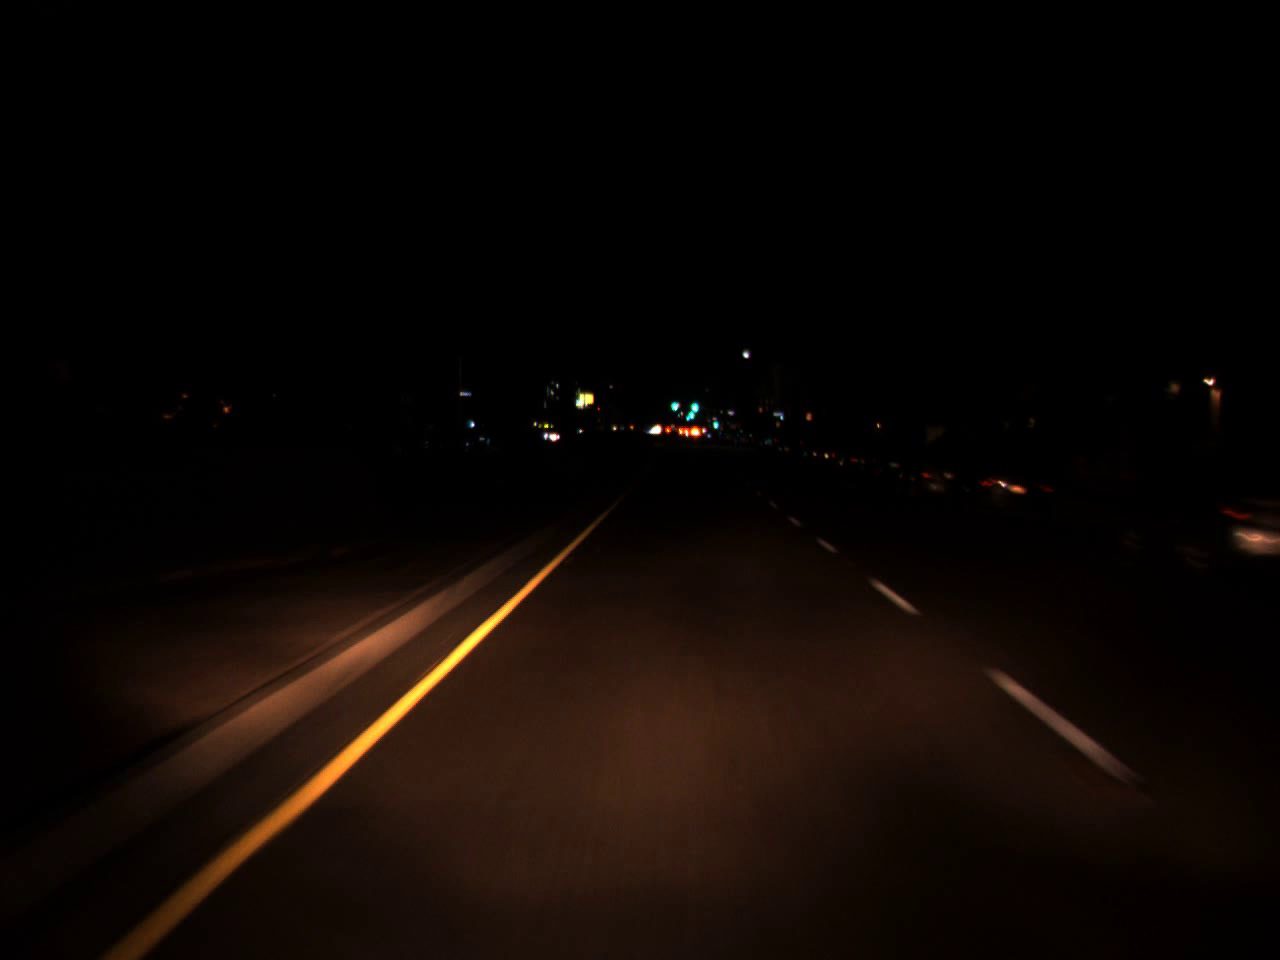go: (682, 401, 696, 425), (687, 393, 699, 417), (669, 396, 679, 411), (712, 413, 719, 431)
